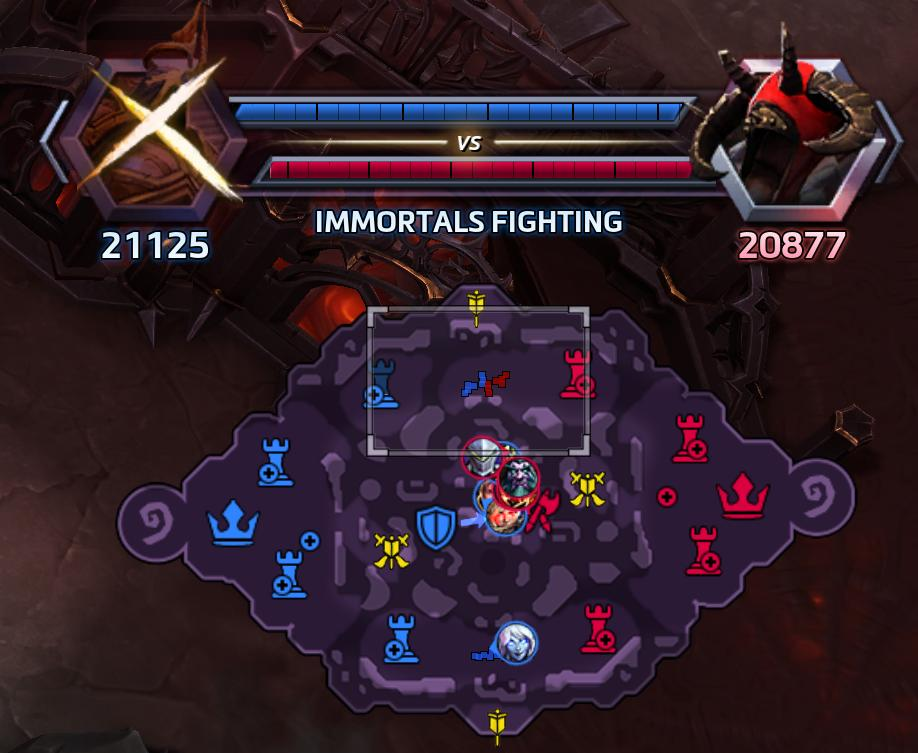blue nexus: (201, 493, 267, 550)
blue player: (492, 621, 539, 665), (485, 498, 528, 536), (471, 478, 499, 525), (491, 441, 517, 485)
blue tower: (380, 612, 425, 670), (267, 549, 311, 604), (256, 436, 296, 490), (361, 355, 400, 410)
red nexus: (711, 463, 776, 526)
red player: (496, 456, 540, 501), (462, 435, 503, 478)
red tower: (579, 599, 623, 656), (667, 411, 714, 464), (559, 342, 599, 403), (681, 526, 724, 578)
